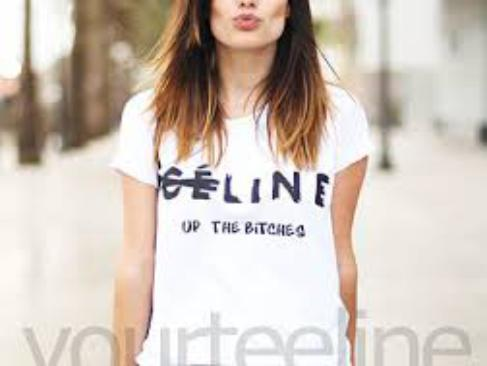CELINE: (143, 155, 338, 219)
